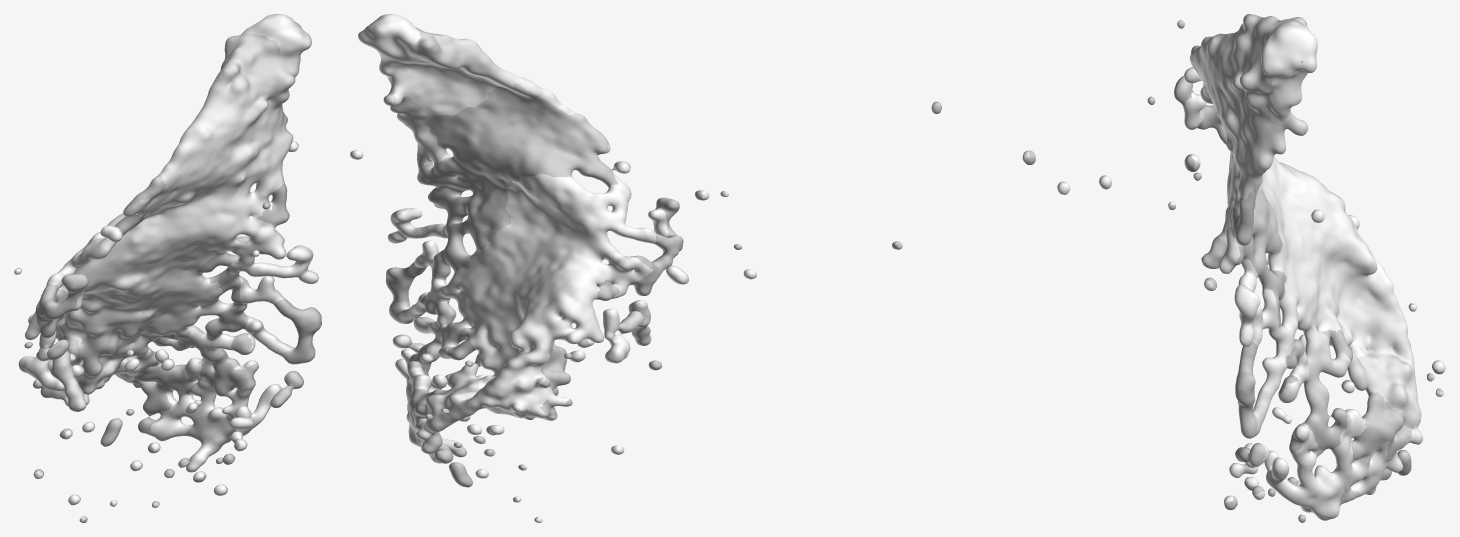
The model's file is Liquid01.glb.
3 views of the same model, side by side, from view 1: azimuth 30°, elevation 25°; view 2: azimuth 150°, elevation 25°; view 3: azimuth 270°, elevation 25° (orthographic). The views are drawn at different scales.
Parts seen in each view (by area): view 1: root_MeshPart0, root_MeshPart1; view 2: root_MeshPart0, root_MeshPart1; view 3: root_MeshPart0, root_MeshPart1.
Boxes of the visible parts, x1,y1,x2,y2 form: root_MeshPart0: (16, 14, 321, 396); root_MeshPart1: (14, 269, 290, 522); root_MeshPart0: (350, 14, 727, 438); root_MeshPart1: (395, 190, 902, 522); root_MeshPart0: (1168, 14, 1445, 470); root_MeshPart1: (931, 21, 1444, 522).
Size of the model in its own units: 0.3611 by 0.3898 by 0.3157.
Materials: 1 (1 with a texture image).
